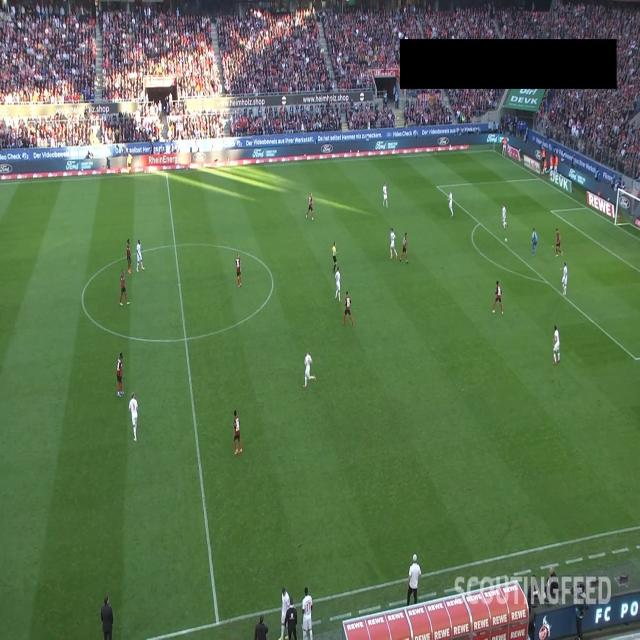ball: (504, 236, 508, 242)
